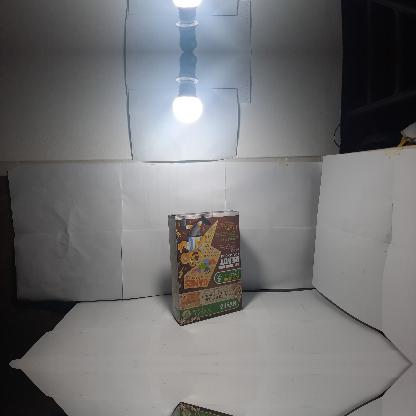Koko-Krunch: (168, 210, 242, 326)
